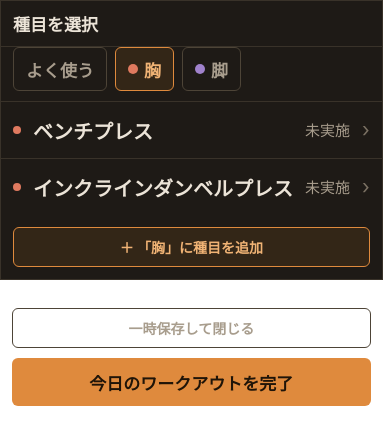
Scenario: 種目を選択 › 部位タブを押すとその部位の種目に切り替わる
Click the text "脚" at [220, 69], box [211,56,228,82]
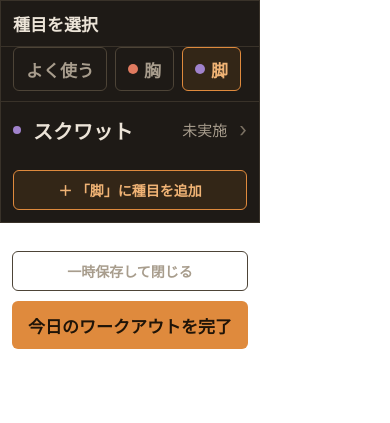
Expected: the text "スクワット" is shown, [33,120,133,144]
Expected: the text "ベンチプレス" is gone
